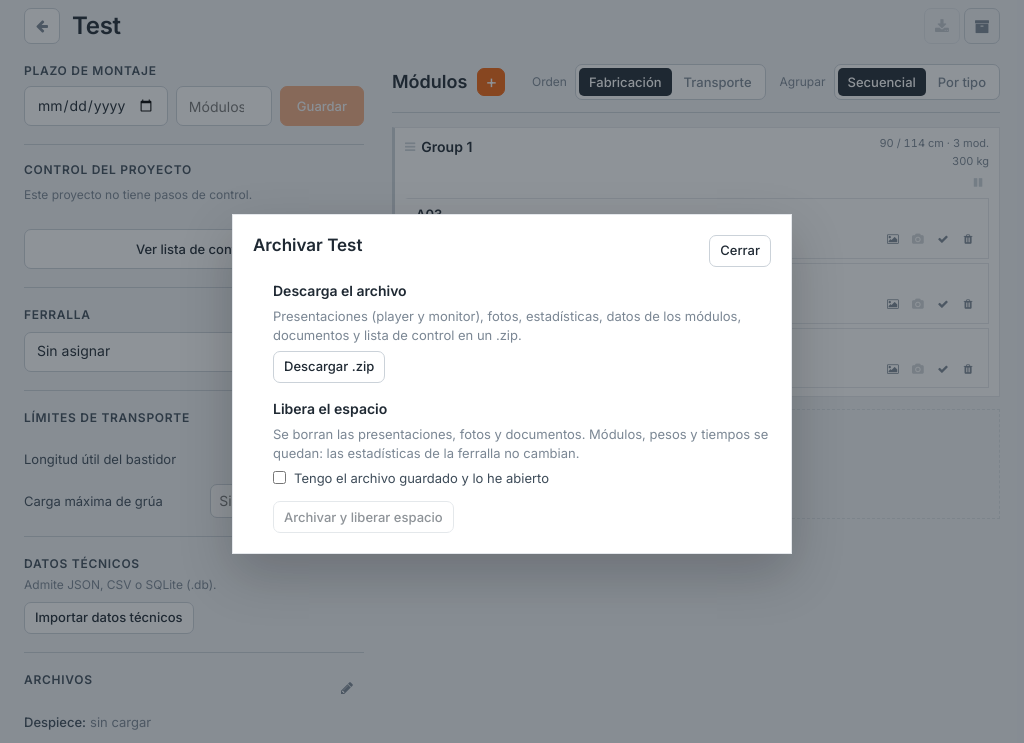
Test: Project detail rack order switch › archiva en dos pasos: descarga el .zip y, confirmado, libera el espacio
Expected: the button with class "archive-confirm-btn" is disabled, left=273, top=501, right=454, bottom=533
Click the button with class "archive-download".
click(329, 367)  # box left=273, top=351, right=385, bottom=383
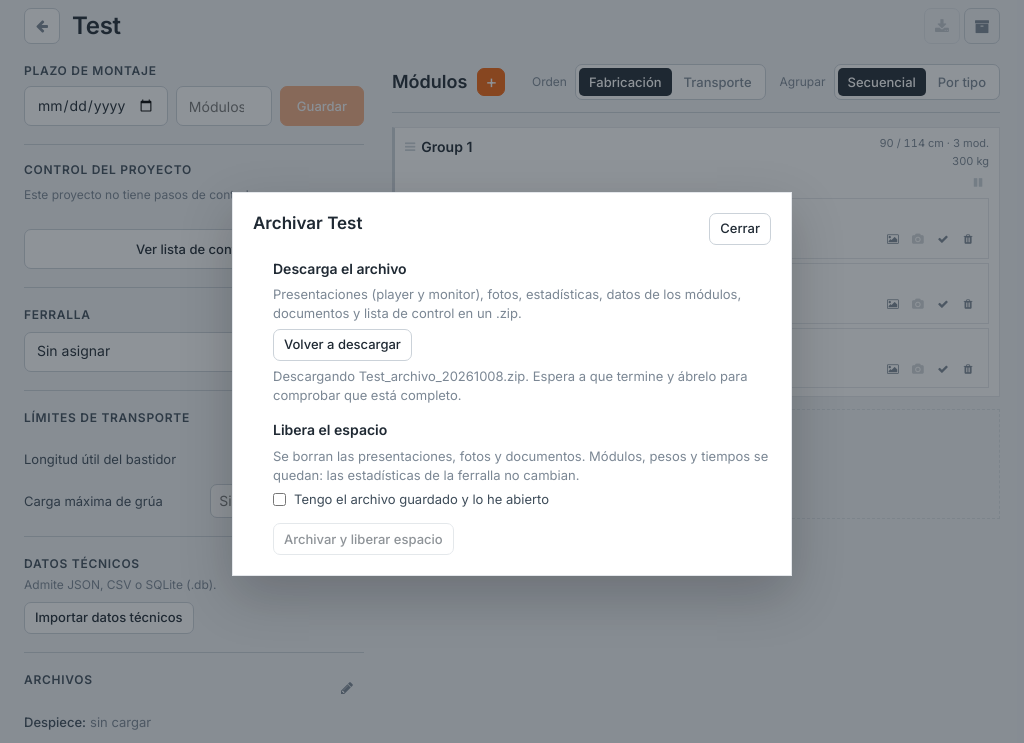
Result: the text "Descargando Test_archivo_20261008.zip" is shown at left=273, top=368, right=748, bottom=402
Click the checkbox labelled "Tengo el archivo guardado y lo he abierto".
click(280, 500)  # box left=273, top=493, right=286, bottom=506
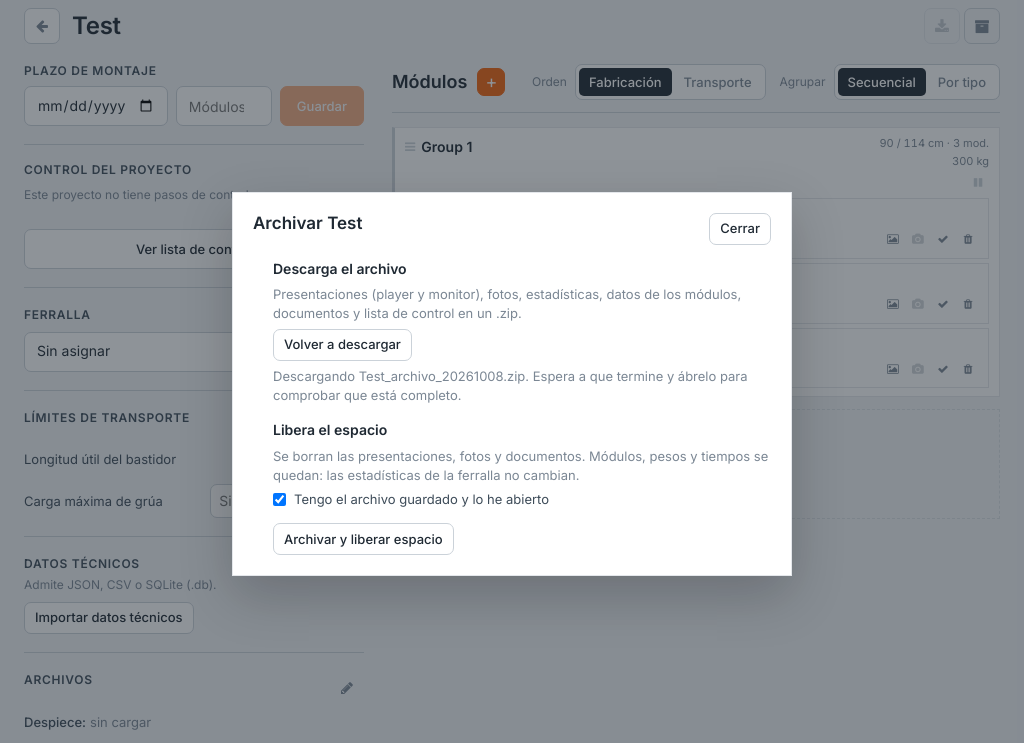
Click the button with class "archive-confirm-btn".
click(363, 539)  # box left=273, top=523, right=454, bottom=555
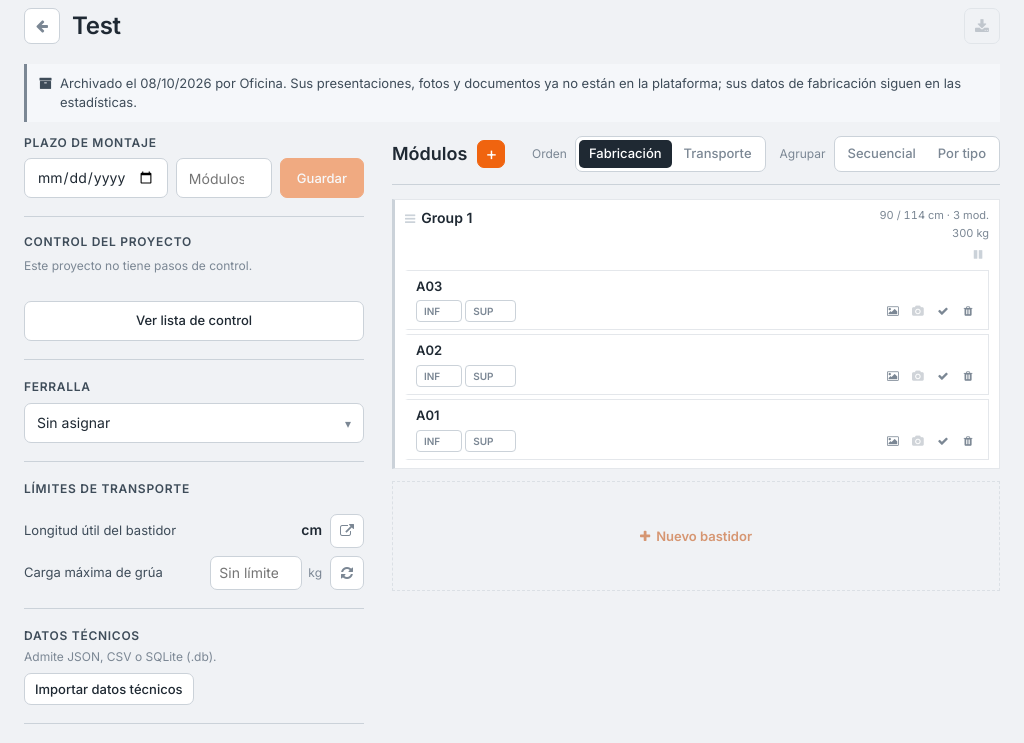
Result: the message with class "archived-banner" shows "Archivado el 08/10/2026 por Oficina" at left=24, top=64, right=1000, bottom=122
Result: the button with class "archive-btn" is gone
